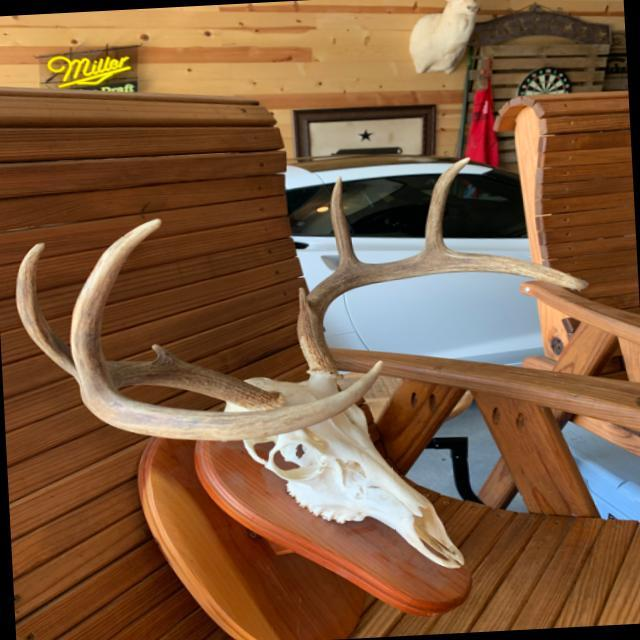L-F: (297, 253, 589, 373)
L-G1: (298, 287, 308, 313)
L-G2: (331, 176, 361, 270)
L-G3: (421, 157, 470, 254)
R-G2: (70, 219, 163, 406)
